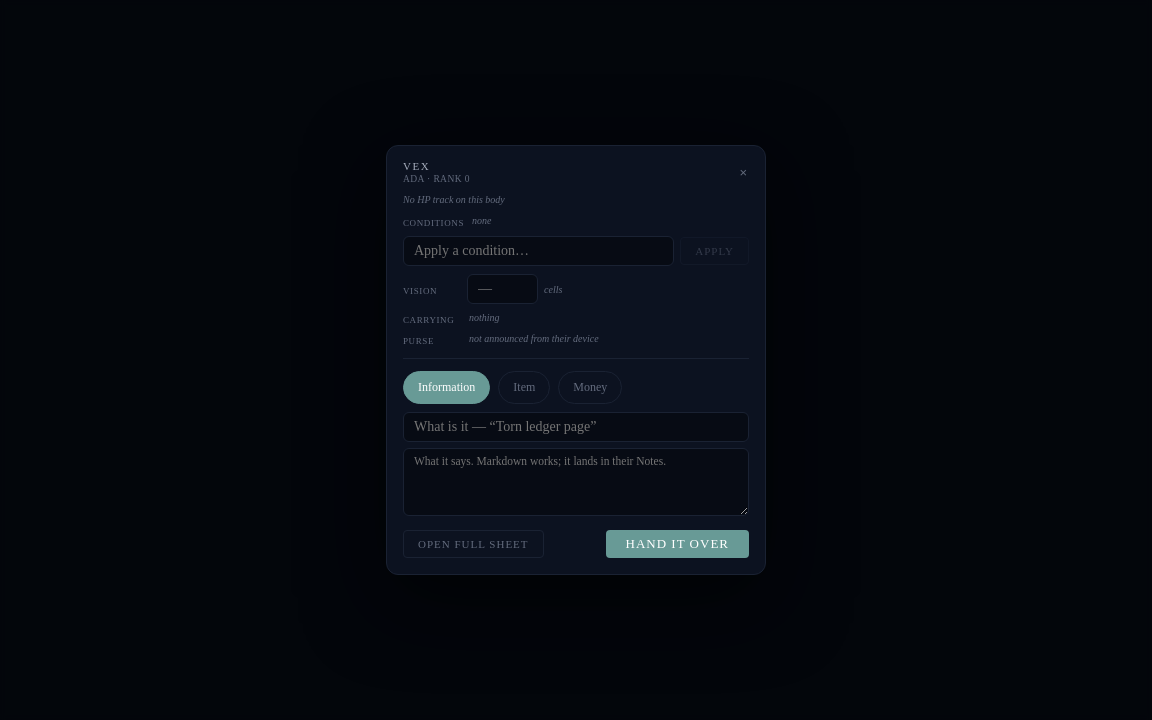
it: VttSynopsis › will not take a money gift for a player who is not connected, and says why
This screenshot has width=1152, height=720.
Click the button with class "chip" showing "Money".
click(590, 388)  # box left=558, top=371, right=622, bottom=404
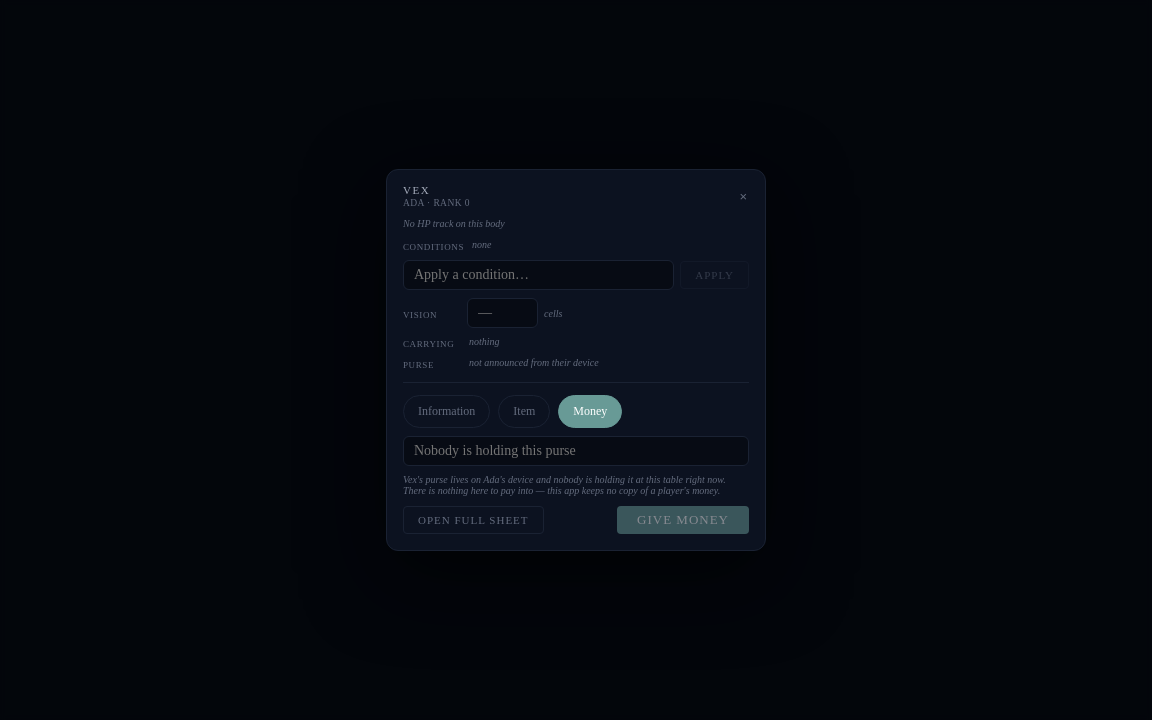
Now the field with placeholder "Nobody is holding this purse" is disabled, box left=403, top=436, right=749, bottom=466
Now the button "Give money" is disabled, box left=617, top=506, right=749, bottom=534
Now the text "nobody is holding it at this table" is shown, box left=403, top=474, right=726, bottom=496
